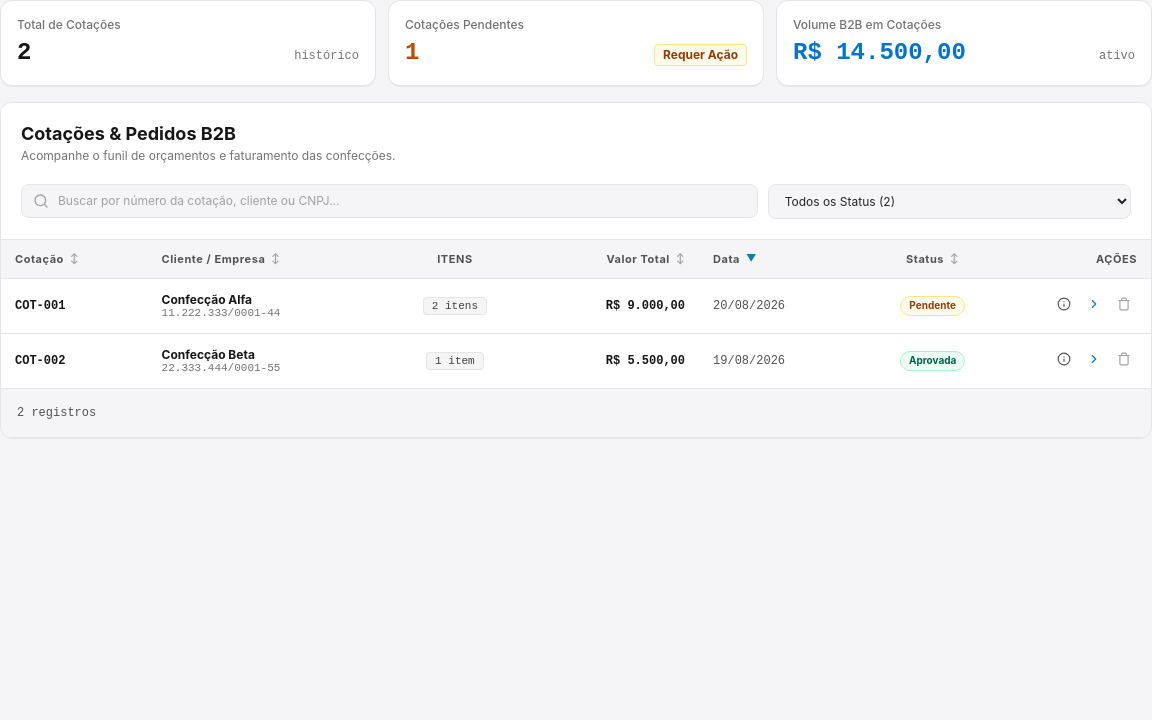
it: AdminOrdersTableComponent › should open and close details modal dialog
The image size is (1152, 720).
Click the button titled "Ver Detalhes" at (1064, 304), box [1051,291,1077,317]
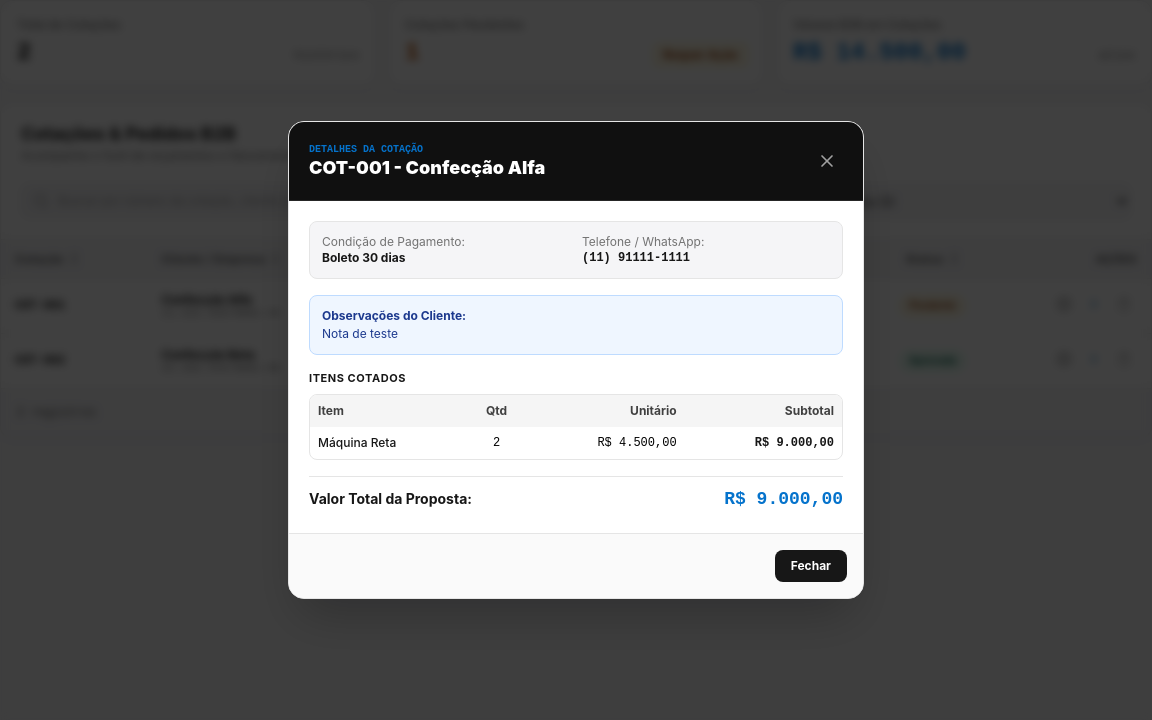
expect the dialog is shown: met
expect the dialog shows "COT-001 - Confecção Alfa": met, box [309,157,545,178]
expect the dialog shows "Máquina Reta": met, box [318,435,396,450]
